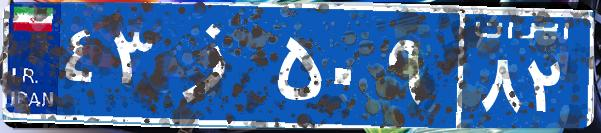0: (330, 28, 385, 110)
2: (525, 38, 570, 115)
3: (110, 28, 158, 105)
4: (57, 26, 110, 107)
5: (273, 28, 330, 110)
8: (475, 38, 525, 113)
9: (385, 28, 445, 110)
ز: (158, 15, 273, 115)
